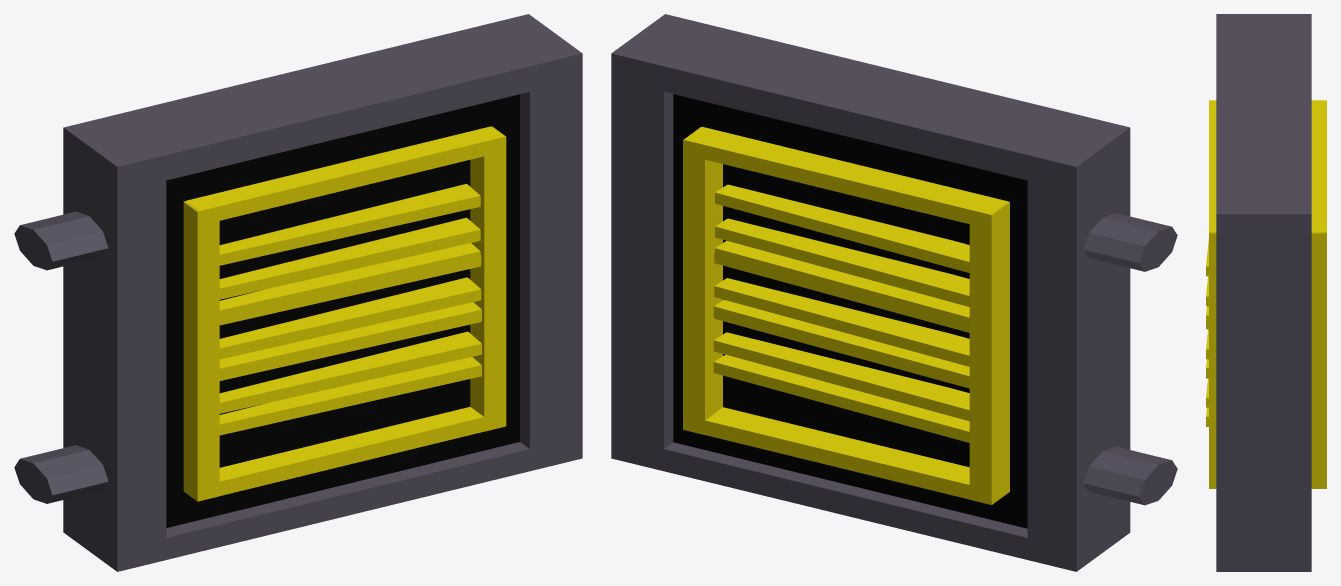
File: Neon_Horizontal_Lines_Square.fbx
The picture shows the model from 3 angles, left to right: view 1: azimuth 30°, elevation 25°; view 2: azimuth 150°, elevation 25°; view 3: azimuth 270°, elevation 25°; orthographic projection. The views are drawn at different scales.
Visible parts, largest first — view 1: NeonSign_Square5, Neon_Horizontal_Lines_Square; view 2: NeonSign_Square5, Neon_Horizontal_Lines_Square; view 3: NeonSign_Square5, Neon_Horizontal_Lines_Square.
Boxes of the visible parts, <box> form: NeonSign_Square5: <box>14,14,582,571</box>; Neon_Horizontal_Lines_Square: <box>183,126,506,501</box>; NeonSign_Square5: <box>611,14,1177,571</box>; Neon_Horizontal_Lines_Square: <box>683,127,1009,504</box>; NeonSign_Square5: <box>1216,14,1311,571</box>; Neon_Horizontal_Lines_Square: <box>1206,100,1326,488</box>.
Size of the model in its own units: 1.12 by 0.8317 by 0.2549.
